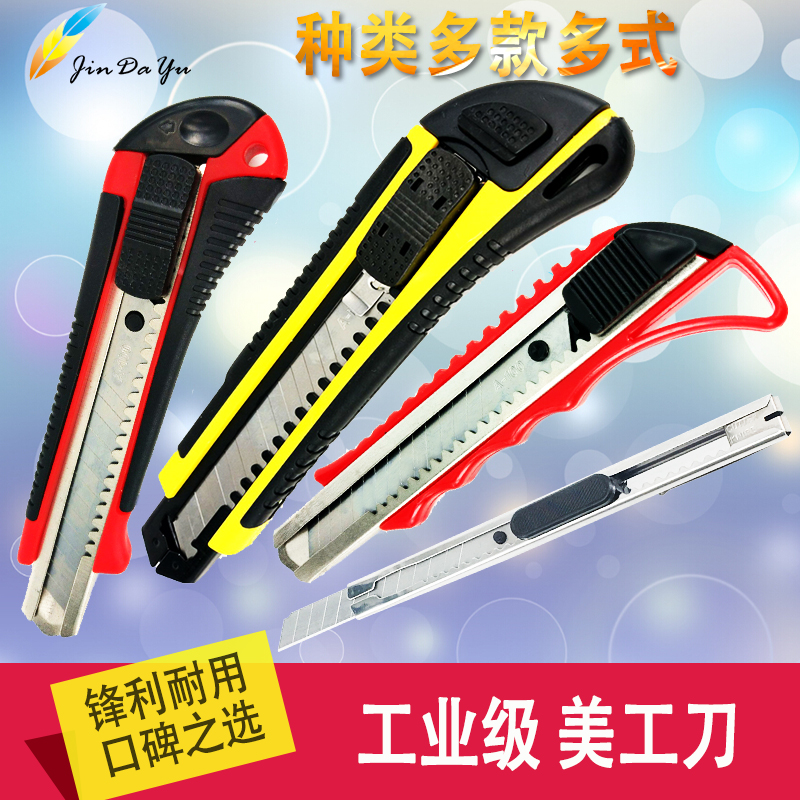cutter: (140, 77, 637, 585), (271, 221, 788, 586), (16, 92, 294, 639), (272, 391, 790, 653)
